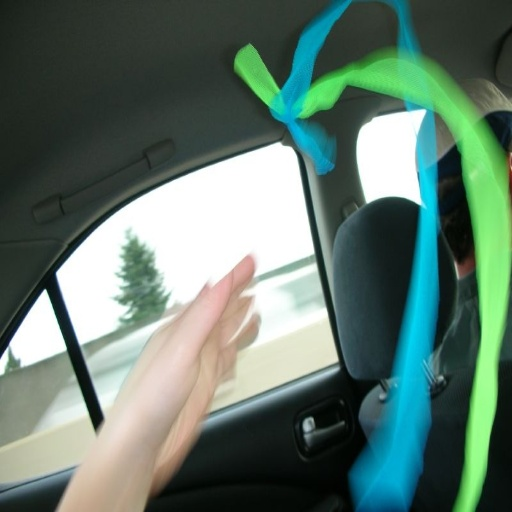hand: (57, 267, 259, 512)
